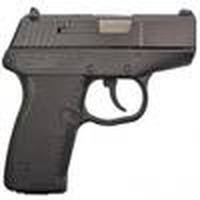gun: (1, 9, 200, 196)
